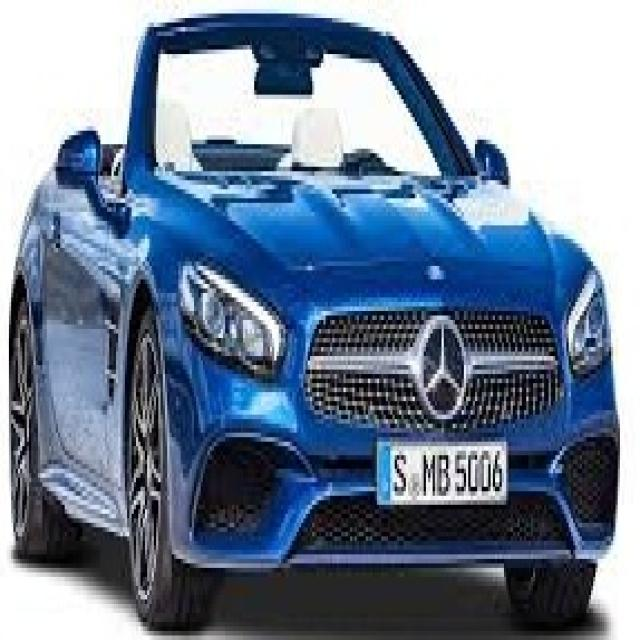blue: (10, 11, 620, 617)
